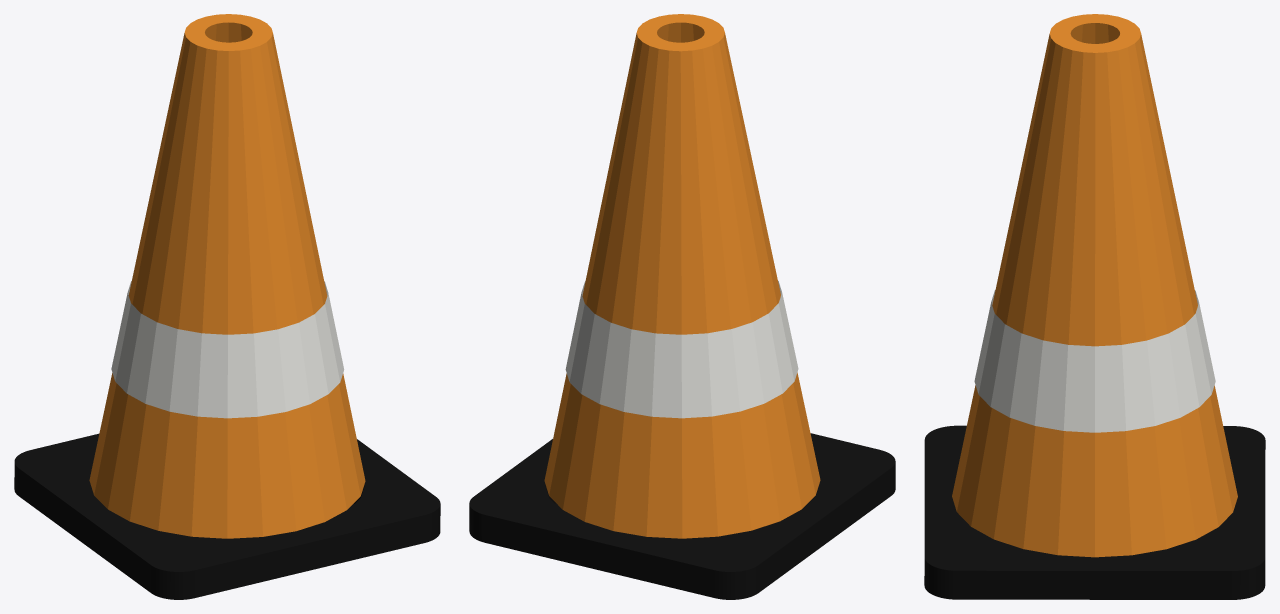
The model's file is standard_cone.glb.
The picture shows the model from 3 angles, left to right: view 1: azimuth 30°, elevation 25°; view 2: azimuth 150°, elevation 25°; view 3: azimuth 270°, elevation 25°; orthographic projection. The views are drawn at different scales.
Visible parts, largest first — view 1: Cone, Base, Stripe; view 2: Cone, Base, Stripe; view 3: Cone, Base, Stripe.
Boxes of the visible parts, left/top/right/bottom form: Cone: left=89, top=14, right=365, bottom=538; Base: left=14, top=433, right=440, bottom=599; Stripe: left=111, top=281, right=344, bottom=418; Cone: left=544, top=14, right=820, bottom=538; Base: left=469, top=433, right=895, bottom=599; Stripe: left=565, top=281, right=798, bottom=418; Cone: left=952, top=14, right=1237, bottom=557; Base: left=924, top=425, right=1265, bottom=599; Stripe: left=974, top=290, right=1215, bottom=432.
Bounding box in the file's own units: 0.2853 × 0.4572 × 0.2852.
